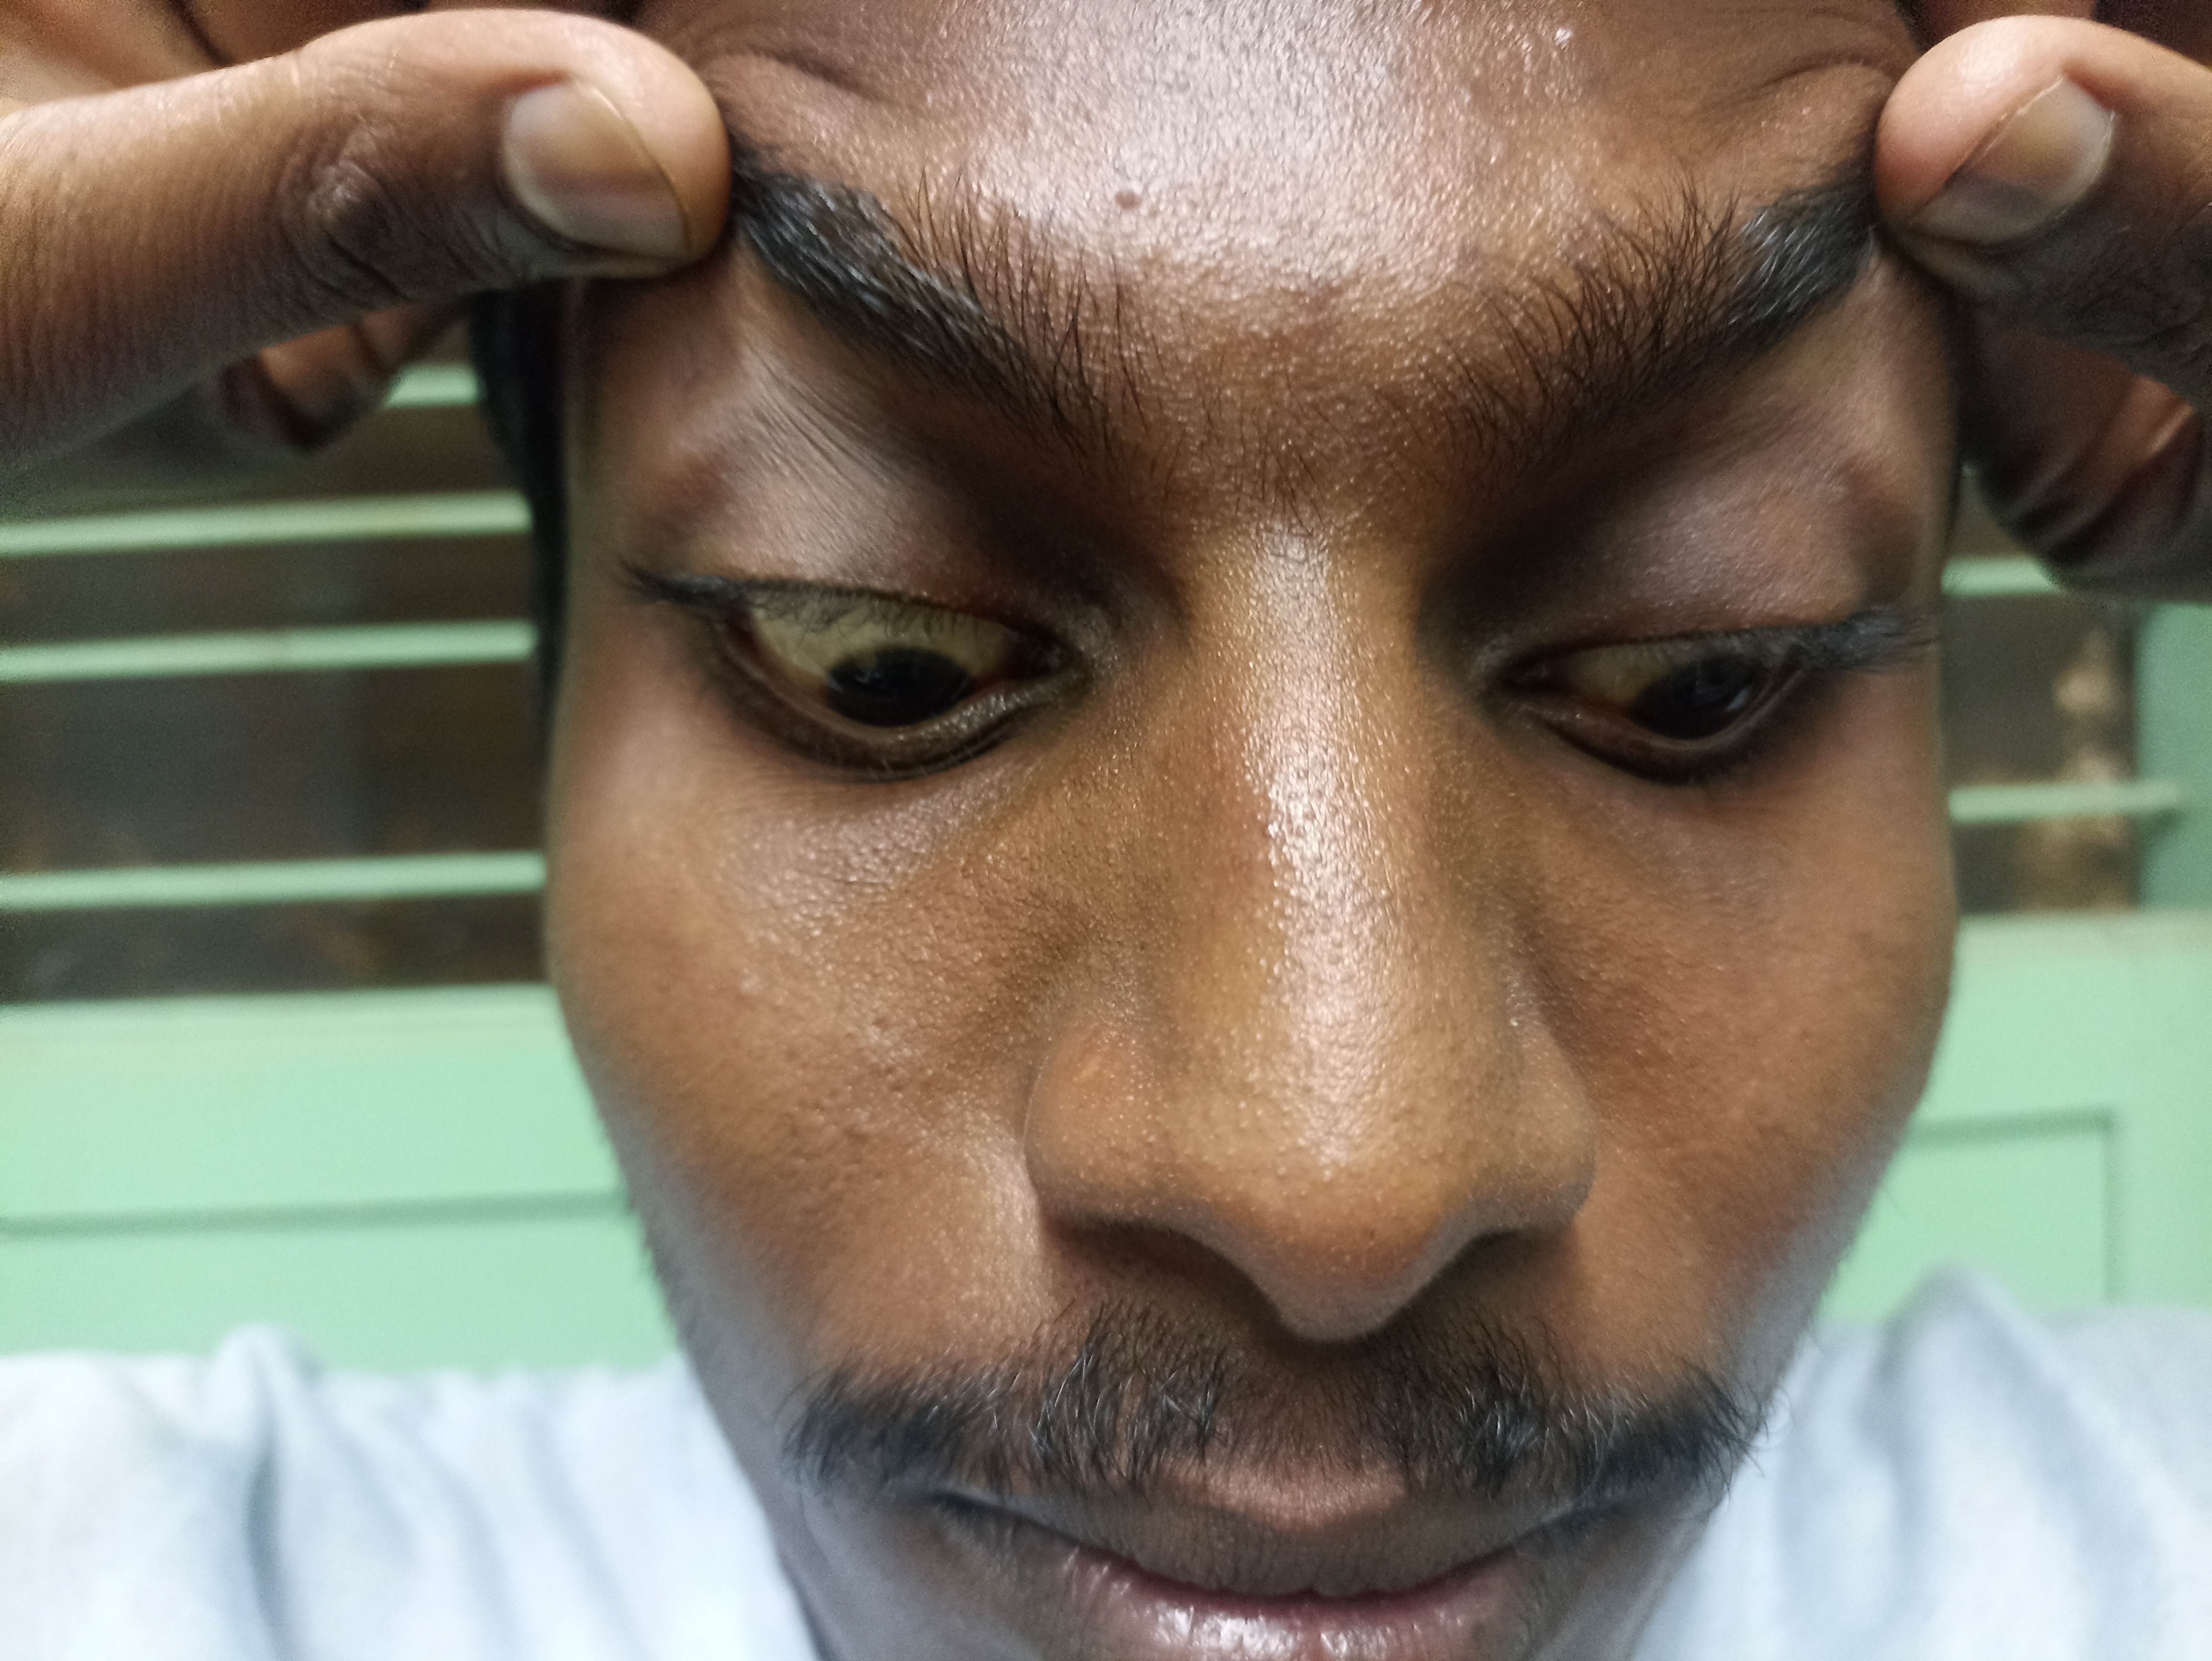EYE DOWN: (1314, 340, 2036, 886), (525, 304, 1158, 911)
